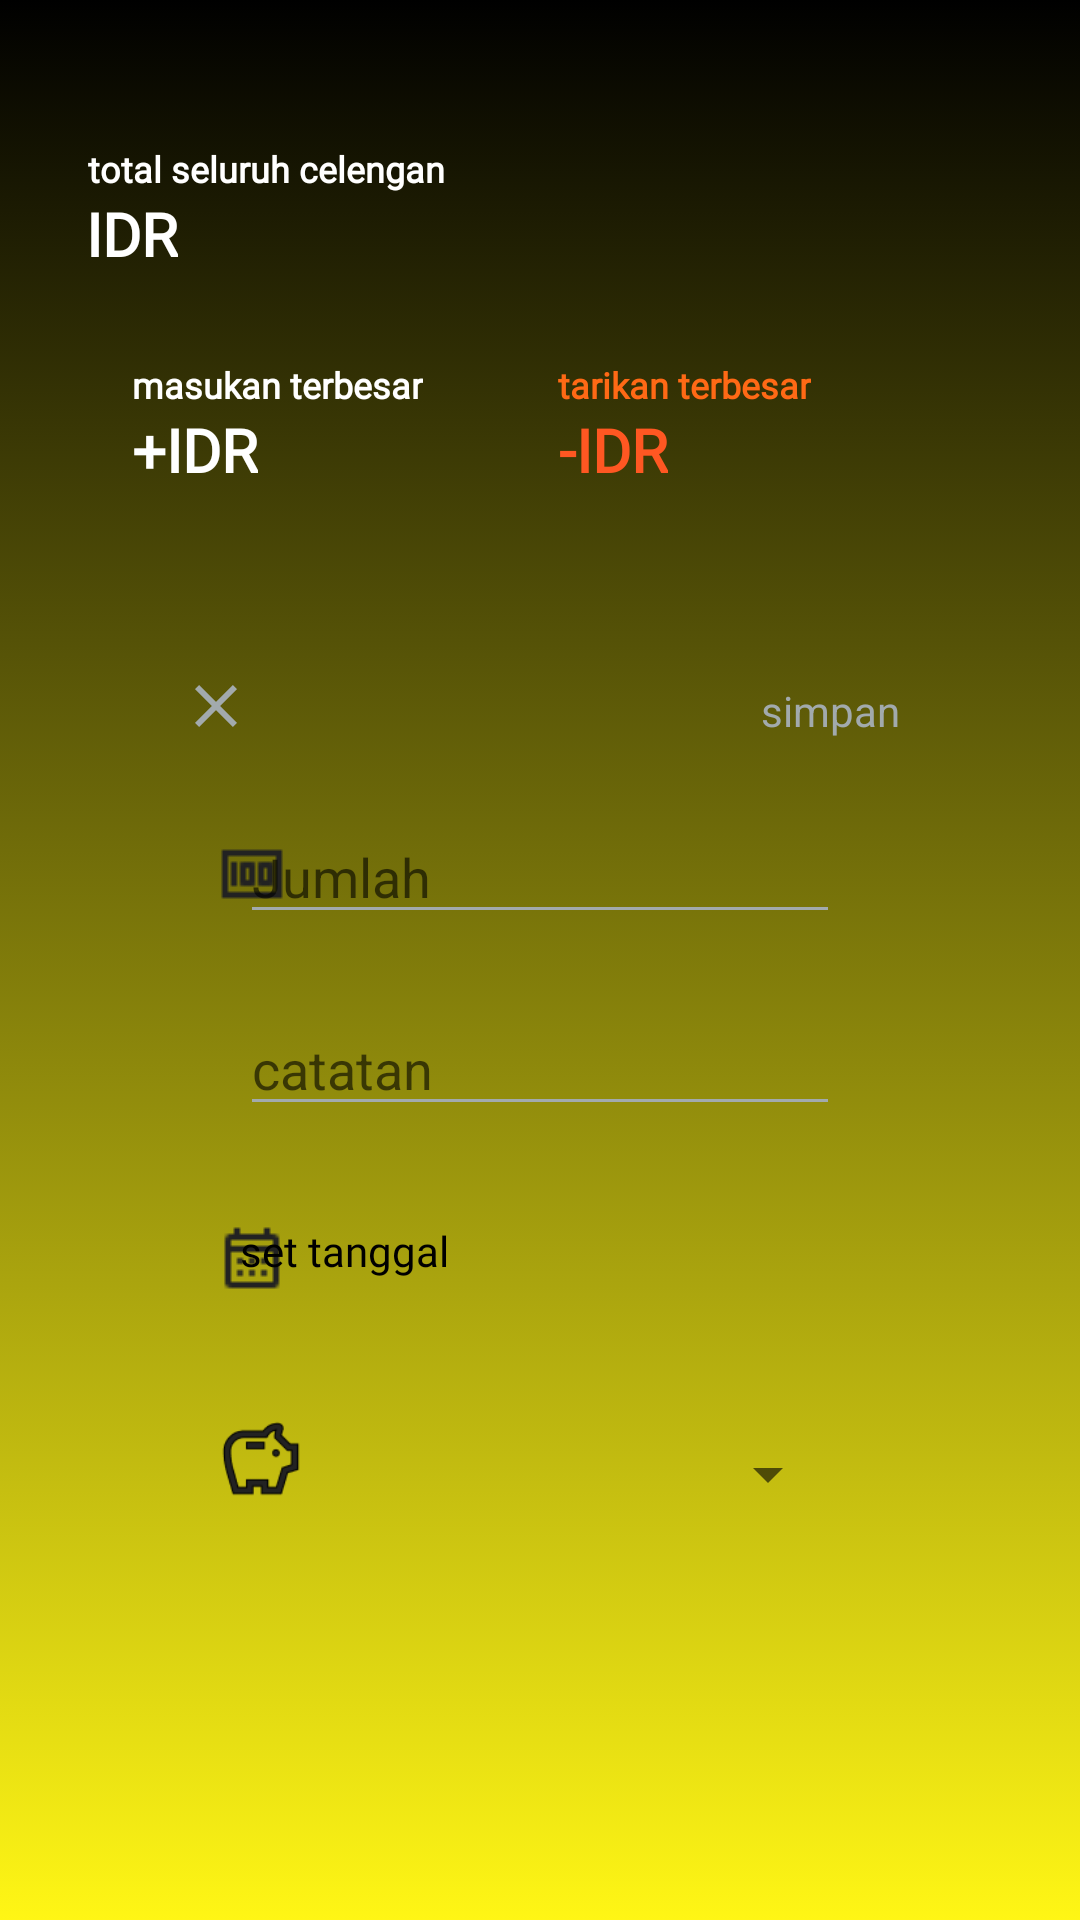

Icons on this 1080*1920 Android screen, each with the point to tap as (x,y):
calendar month: (253,1258)
money: (252,874)
savings: (261,1458)
